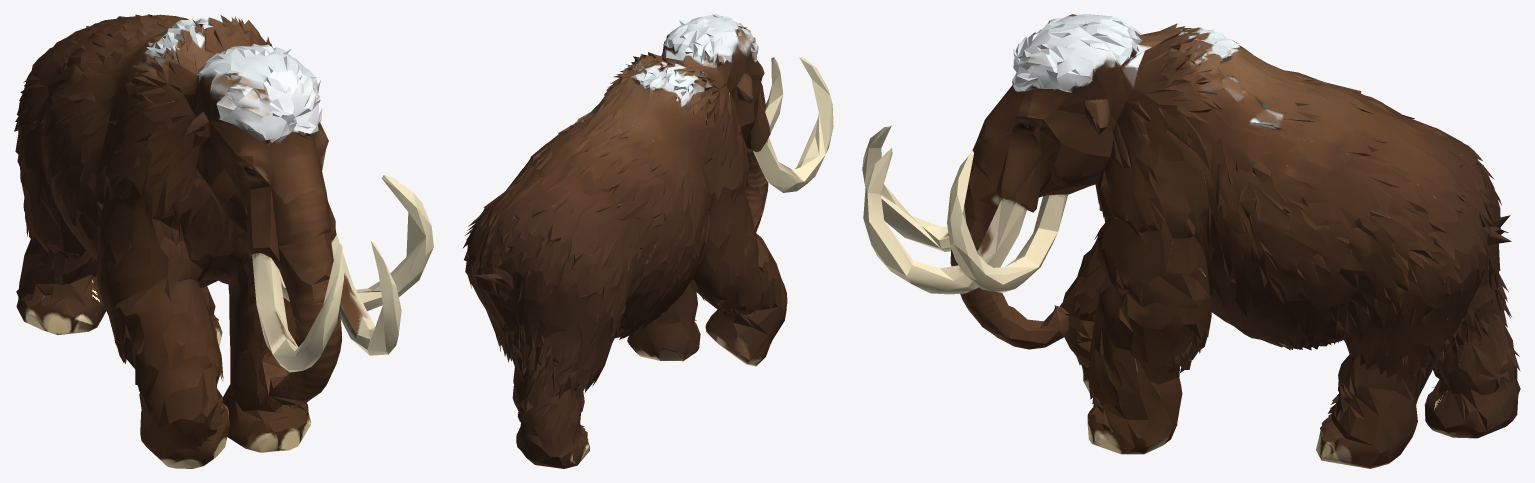
The model's file is mammoth.glb.
The picture shows the model from 3 angles, left to right: view 1: azimuth 30°, elevation 25°; view 2: azimuth 150°, elevation 25°; view 3: azimuth 270°, elevation 25°; orthographic projection. The views are drawn at different scales.
Bounding box in the file's own units: 0.7706 × 1.26 × 1.86.
Materials: 1 (1 with a texture image).
